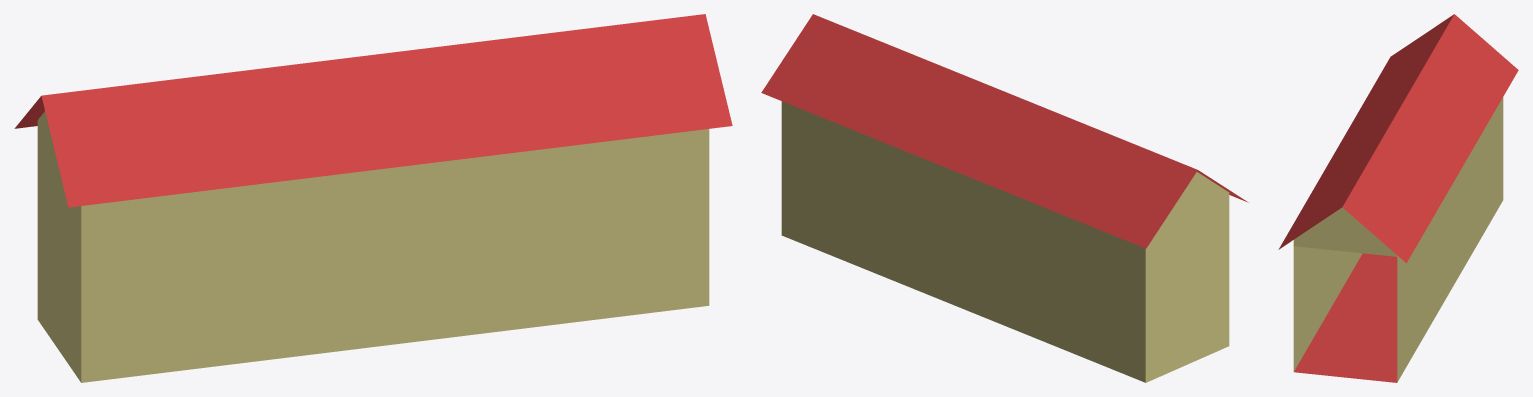
The picture shows the model from 3 angles, left to right: view 1: azimuth 30°, elevation 25°; view 2: azimuth 150°, elevation 25°; view 3: azimuth 270°, elevation 25°; orthographic projection. The views are drawn at different scales.
Bounding box in the file's own units: 28.72 × 14.13 × 11.38.
